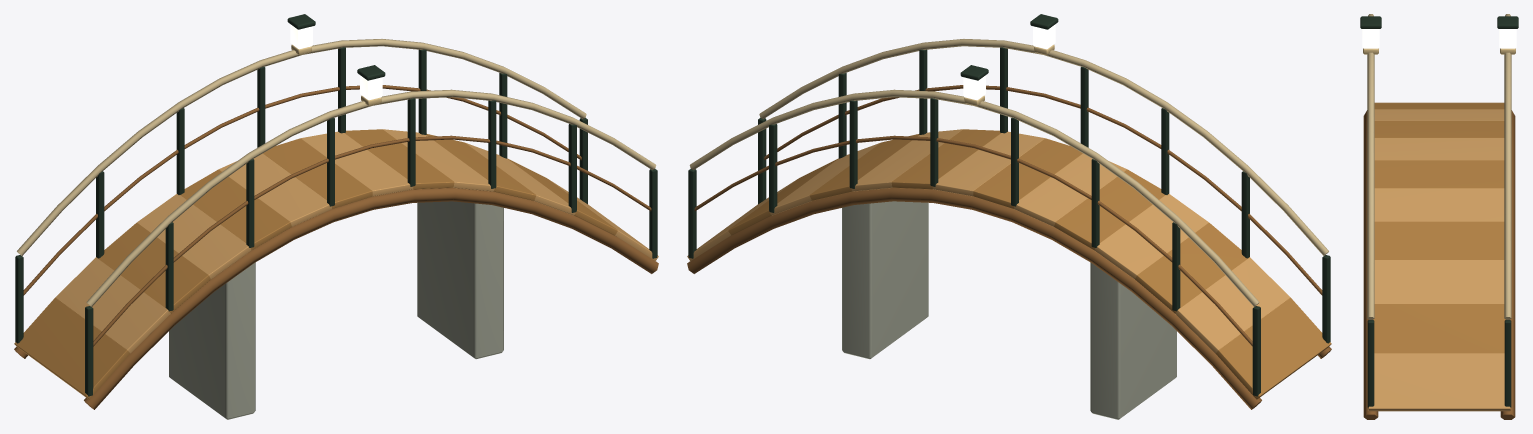
File: footbridge.glb
The picture shows the model from 3 angles, left to right: view 1: azimuth 30°, elevation 25°; view 2: azimuth 150°, elevation 25°; view 3: azimuth 270°, elevation 25°; orthographic projection.
Parts seen in each view (by area): view 1: Pier0.72, Pier0.28, Stringer-1, Plank0, Handrail1, Handrail-1, Plank1, Plank2, Plank3, Plank4, Plank5, Plank6 (+25 smaller); view 2: Pier0.72, Pier0.28, Stringer1, Plank0, Handrail-1, Handrail1, Plank1, Plank2, Plank3, Plank4, Plank5, Plank6 (+25 smaller); view 3: Plank13, Plank12, Plank11, Plank10, Plank9, Plank8, Plank7, Plank6, Handrail1, Handrail-1, Stringer1, Stringer-1 (+9 smaller).
Part boxes in pixels (<box>): Pier0.72: <box>417,201,503,359</box>; Pier0.28: <box>169,262,255,419</box>; Stringer-1: <box>84,188,658,409</box>; Plank0: <box>14,297,130,399</box>; Handrail1: <box>17,39,586,255</box>; Handrail-1: <box>86,89,656,306</box>; Plank1: <box>55,257,170,353</box>; Plank2: <box>96,222,210,313</box>; Plank3: <box>137,194,251,279</box>; Plank4: <box>180,169,291,250</box>; Plank5: <box>219,153,332,226</box>; Plank6: <box>263,138,372,208</box>; Pier0.72: <box>842,201,928,359</box>; Pier0.28: <box>1090,262,1176,419</box>; Stringer1: <box>687,188,1261,409</box>; Plank0: <box>1216,297,1331,399</box>; Handrail-1: <box>759,39,1328,255</box>; Handrail1: <box>689,89,1259,306</box>; Plank1: <box>1175,257,1290,353</box>; Plank2: <box>1135,222,1249,313</box>; Plank3: <box>1094,194,1208,279</box>; Plank4: <box>1054,169,1165,250</box>; Plank5: <box>1013,153,1126,226</box>; Plank6: <box>973,138,1082,208</box>; Plank13: <box>1368,353,1510,411</box>; Plank12: <box>1368,304,1510,353</box>; Plank11: <box>1374,260,1504,303</box>; Plank10: <box>1374,221,1504,259</box>; Plank9: <box>1374,188,1504,221</box>; Plank8: <box>1374,160,1504,188</box>; Plank7: <box>1374,138,1504,160</box>; Plank6: <box>1374,121,1504,137</box>; Handrail1: <box>1504,14,1511,319</box>; Handrail-1: <box>1367,14,1374,319</box>; Stringer1: <box>1500,110,1515,419</box>; Stringer-1: <box>1363,110,1378,419</box>.
Bounding box in the file's own units: 4.89 × 2.62 × 1.19.
